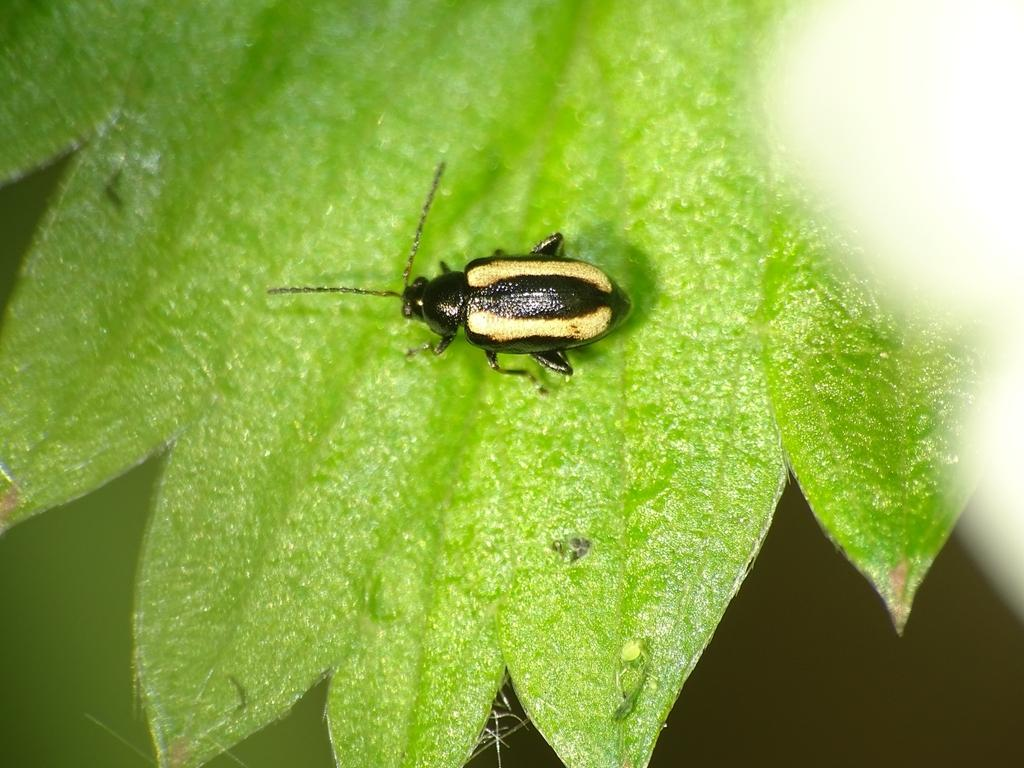flea_beetle: (237, 90, 715, 498)
